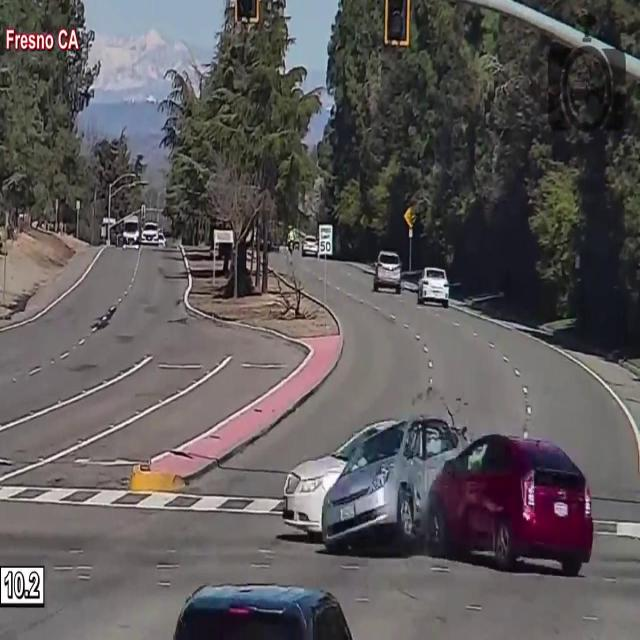accident: (276, 379, 605, 593)
